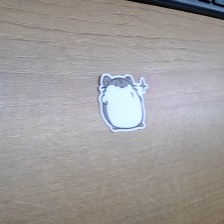mouse: (97, 71, 152, 133)
